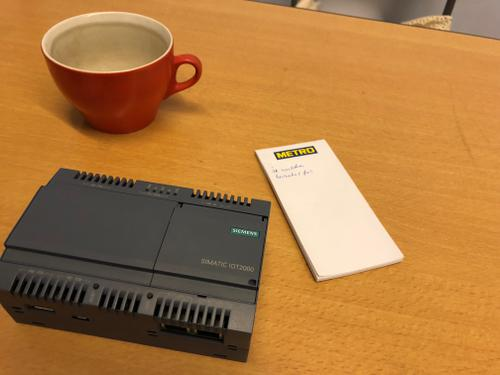device: (1, 168, 272, 363)
